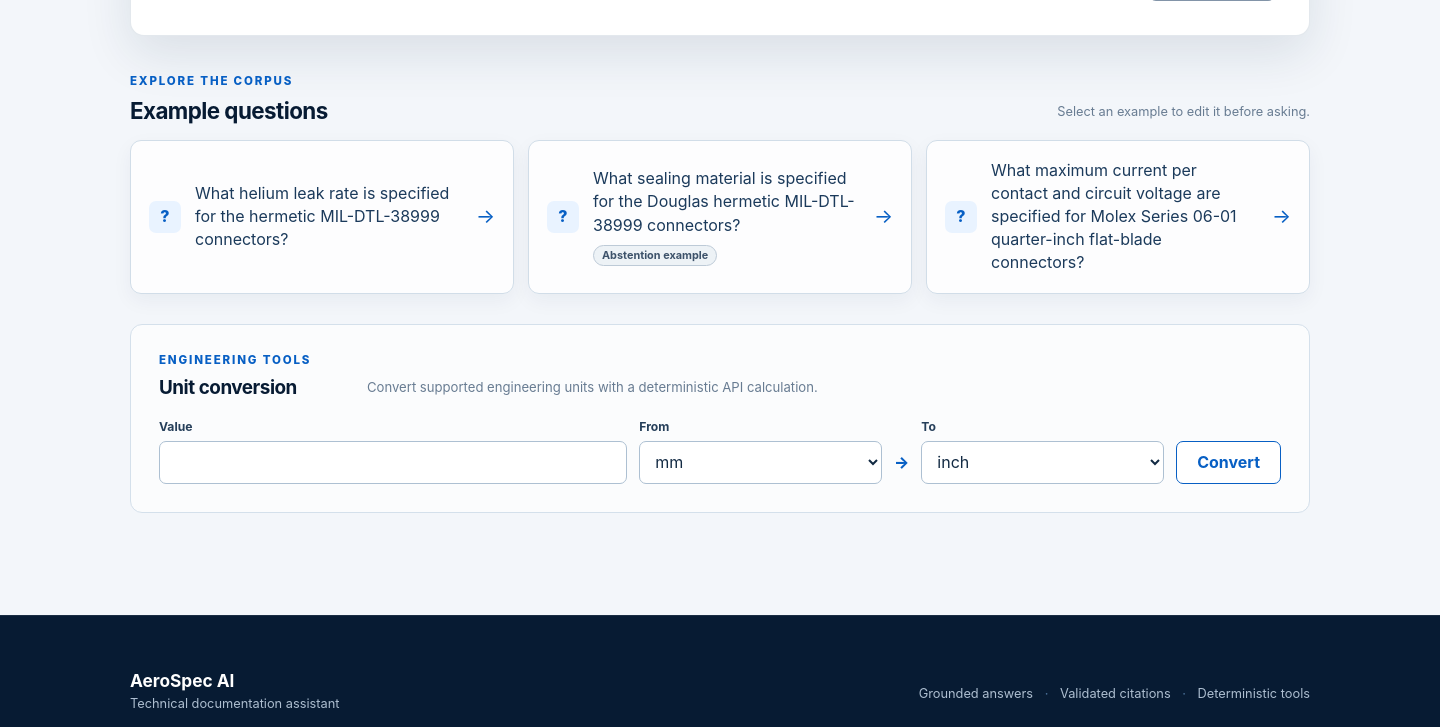
App › affiche une erreur de conversion sans appel réseau réel
(page scrolled)
In the number field labelled "Value": (393, 462) [159,441,627,484], type "25"
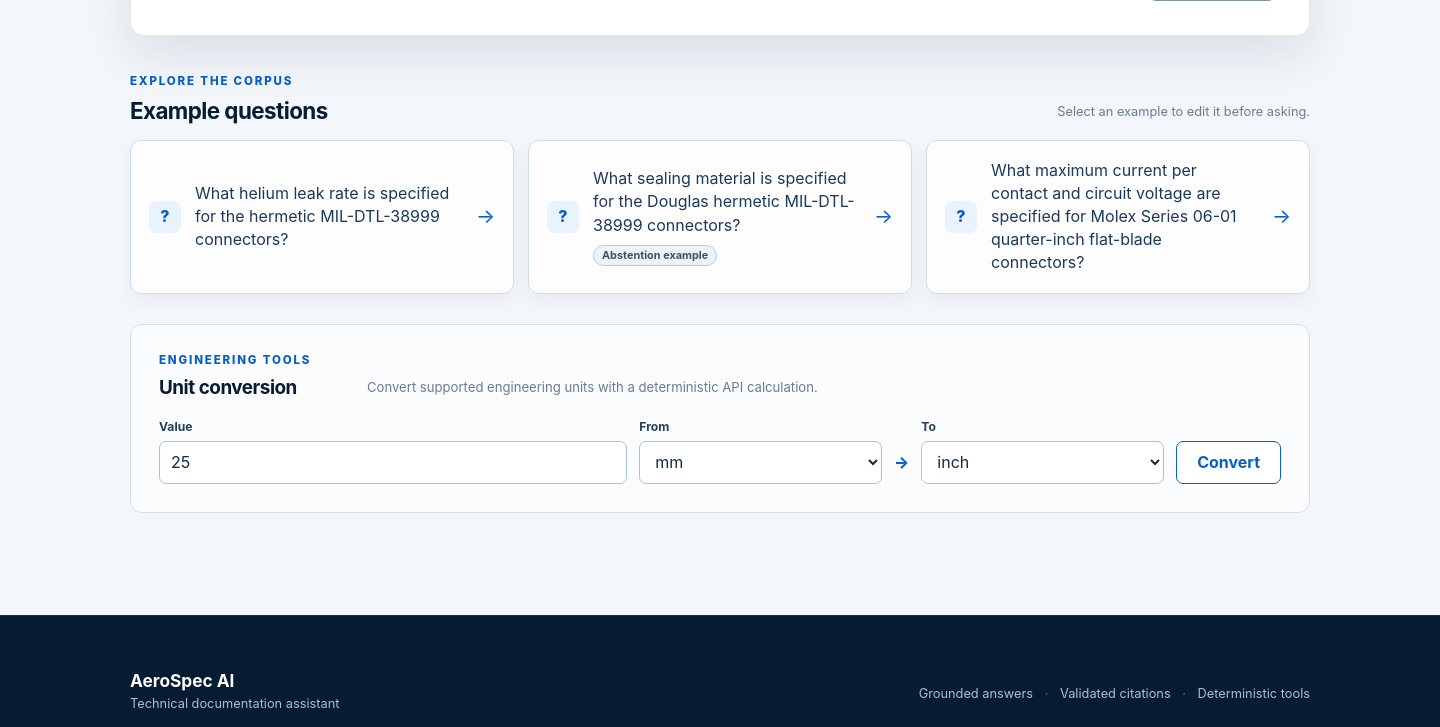
Click the button "Convert": (1229, 462) [1176,441,1281,484]
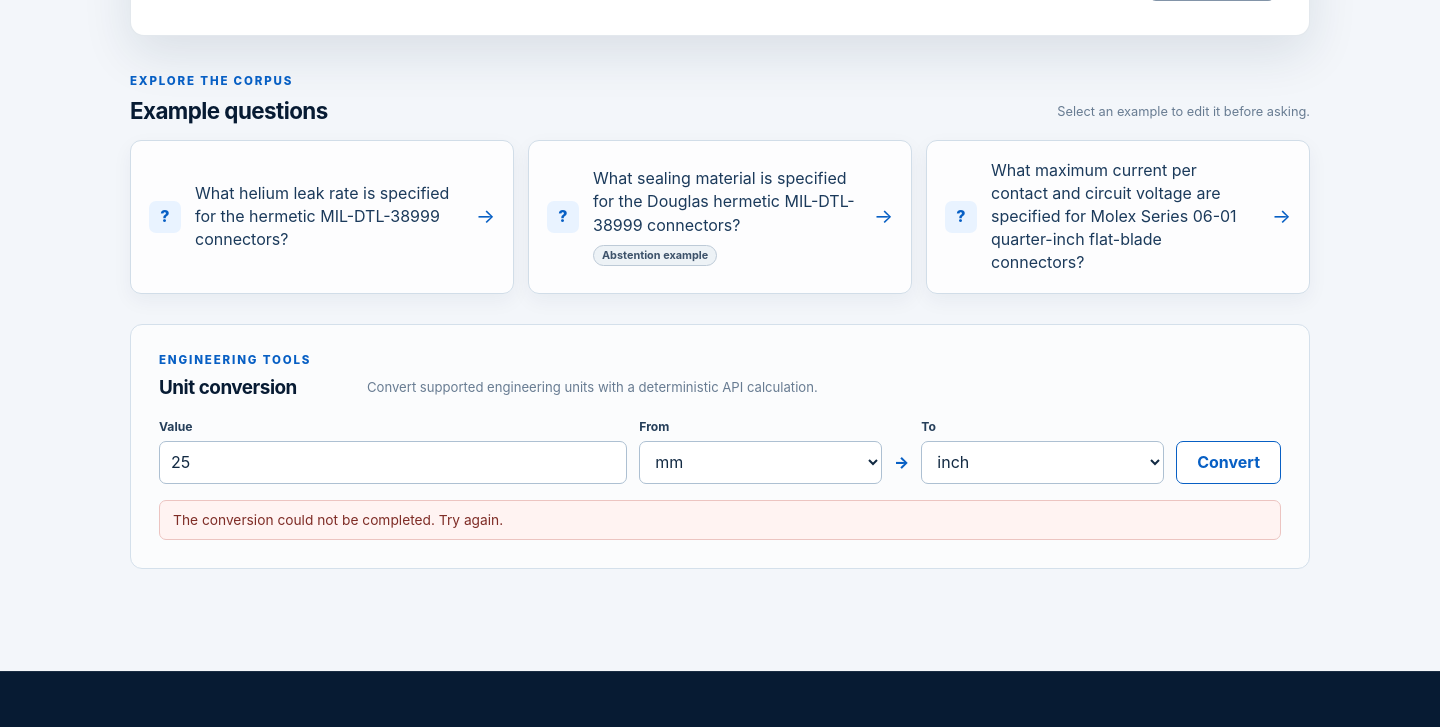
Expected: the message reads "The conversion could not be completed. Try again.", [173,512,503,528]
